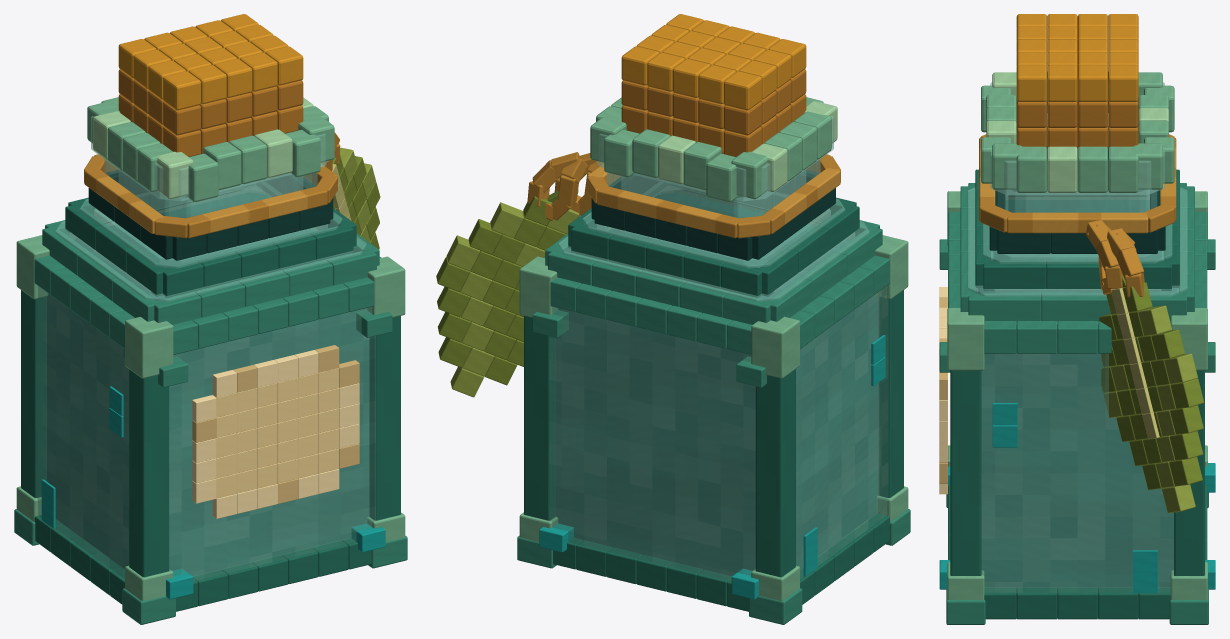
File: SM_Blender_MossTonic.glb
3 views of the same model, side by side, from view 1: azimuth 30°, elevation 25°; view 2: azimuth 150°, elevation 25°; view 3: azimuth 270°, elevation 25° (orthographic). The views are drawn at different scales.
Visible parts, largest first — view 1: SM_Blender_MossTonic; view 2: SM_Blender_MossTonic; view 3: SM_Blender_MossTonic.
Part boxes in pixels (x1,y1,x2,y2): SM_Blender_MossTonic: (14, 14, 407, 624); SM_Blender_MossTonic: (436, 14, 910, 624); SM_Blender_MossTonic: (939, 14, 1215, 624).
Size of the model in its own units: 0.6288 by 0.836 by 0.4085.
Materials: 3 (3 with a texture image).
